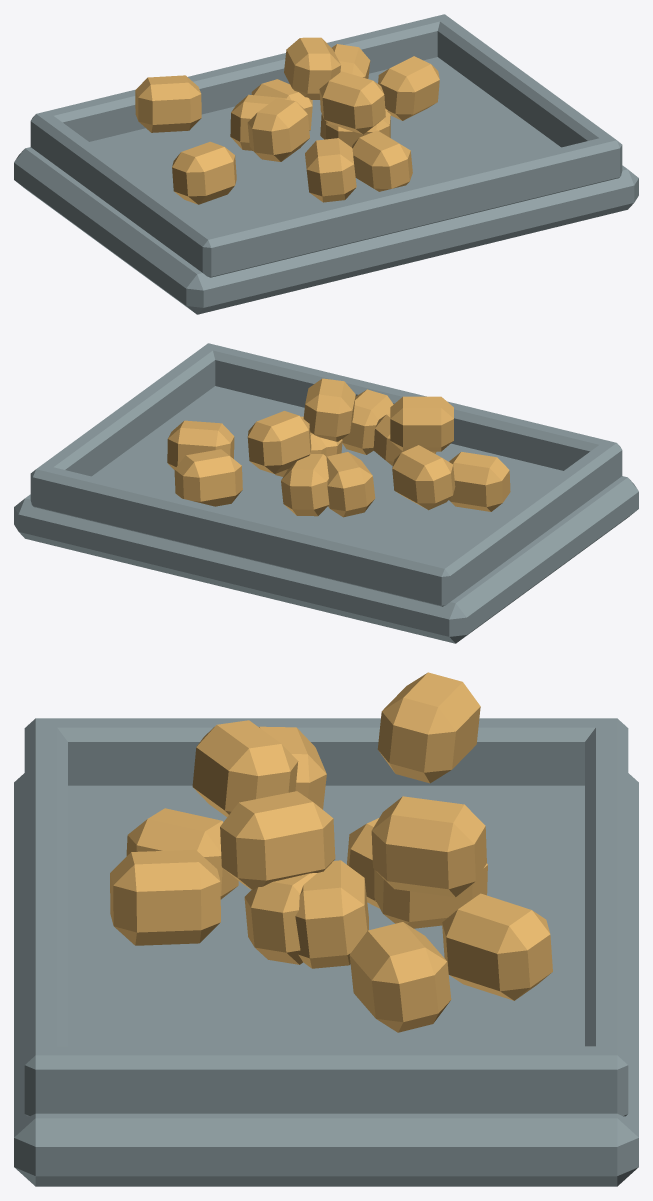
The model's file is crispy_potatoes.glb.
The picture shows the model from 3 angles, top to bottom: view 1: azimuth 30°, elevation 25°; view 2: azimuth 150°, elevation 25°; view 3: azimuth 270°, elevation 25°; orthographic projection. The views are drawn at different scales.
Parts seen in each view (by area): view 1: FTF_Dish_CrispyFriedPotato_StaticMesh; view 2: FTF_Dish_CrispyFriedPotato_StaticMesh; view 3: FTF_Dish_CrispyFriedPotato_StaticMesh.
Part boxes in pixels (x1,y1,x2,y2): FTF_Dish_CrispyFriedPotato_StaticMesh: (14, 14, 638, 314); FTF_Dish_CrispyFriedPotato_StaticMesh: (14, 343, 638, 643); FTF_Dish_CrispyFriedPotato_StaticMesh: (14, 672, 638, 1186).
Bounding box in the file's own units: 0.82 × 0.2215 × 0.58.
